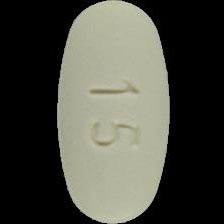68180-502: (0, 0, 224, 224)
